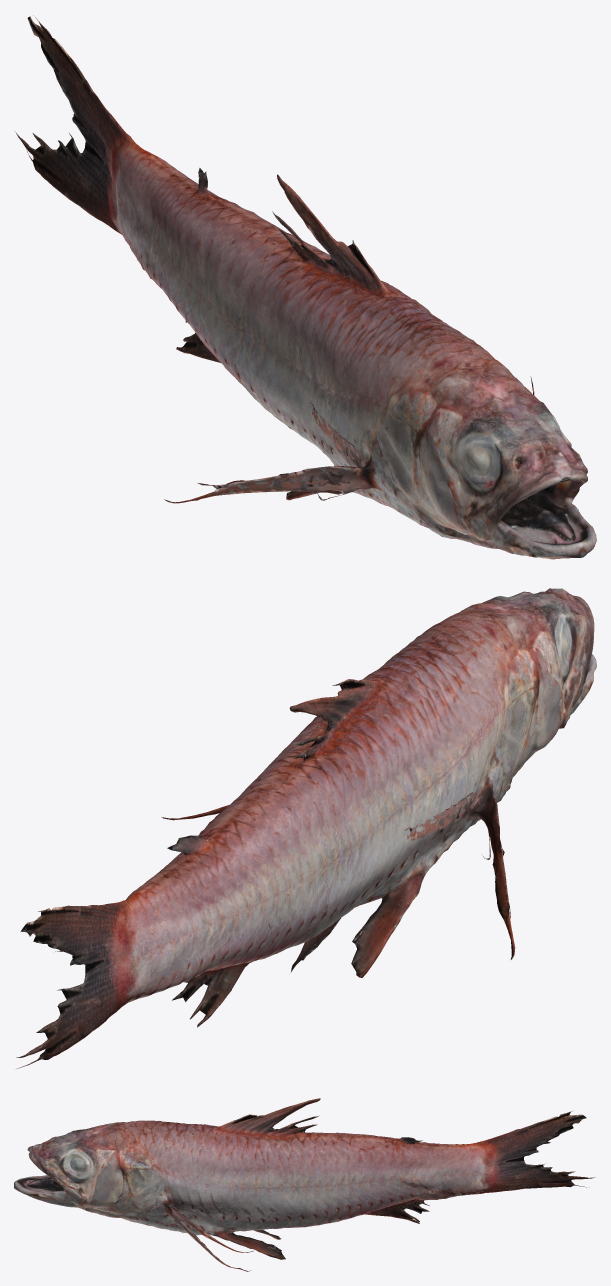
Rendered from neoscopelid.glb.
3 renders of one model, top to bottom at view 1: azimuth 30°, elevation 25°; view 2: azimuth 150°, elevation 25°; view 3: azimuth 270°, elevation 25°, orthographic. The views are drawn at different scales.
Parts seen in each view (by area): view 1: neoscopelid; view 2: neoscopelid; view 3: neoscopelid.
Part boxes in pixels (x1=…): neoscopelid: x1=15, y1=15, x2=596, y2=559; neoscopelid: x1=16, y1=588, x2=596, y2=1068; neoscopelid: x1=14, y1=1098, x2=595, y2=1271.
Bounding box in the file's own units: 0.0728 × 0.0577 × 0.1996.
Materials: 1 (1 with a texture image).
